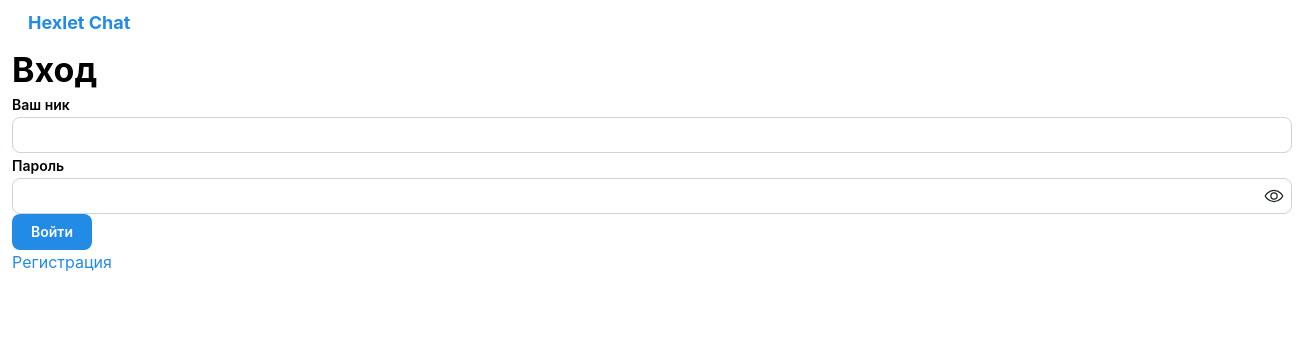
Scenario: the login and signup pages link to each other
Step 1. Click the link to "/signup" → (62, 262), box x1=12 y1=252 x2=112 y2=272
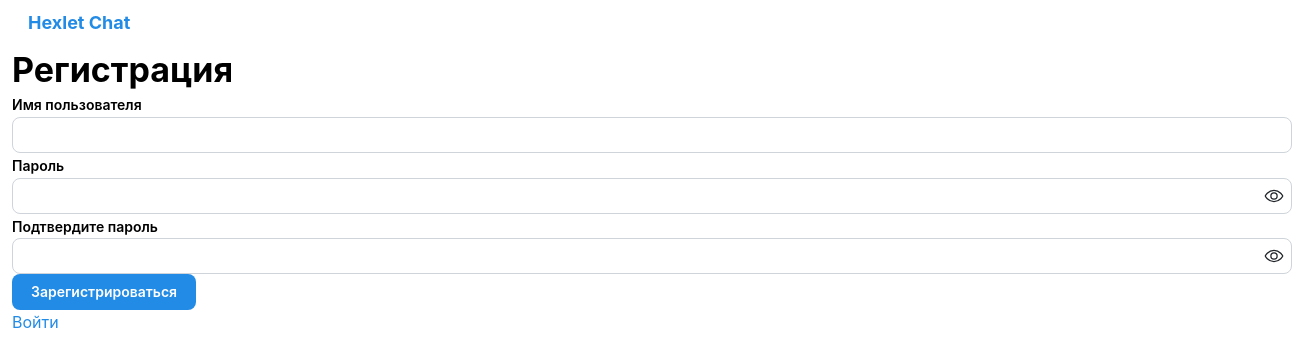
Now the text "Подтвердите пароль" is shown, box x1=12 y1=216 x2=158 y2=237
Now the link to "/login" reads "Войти"
Step 2. Click the link to "/login" → (35, 322), box x1=12 y1=312 x2=59 y2=332
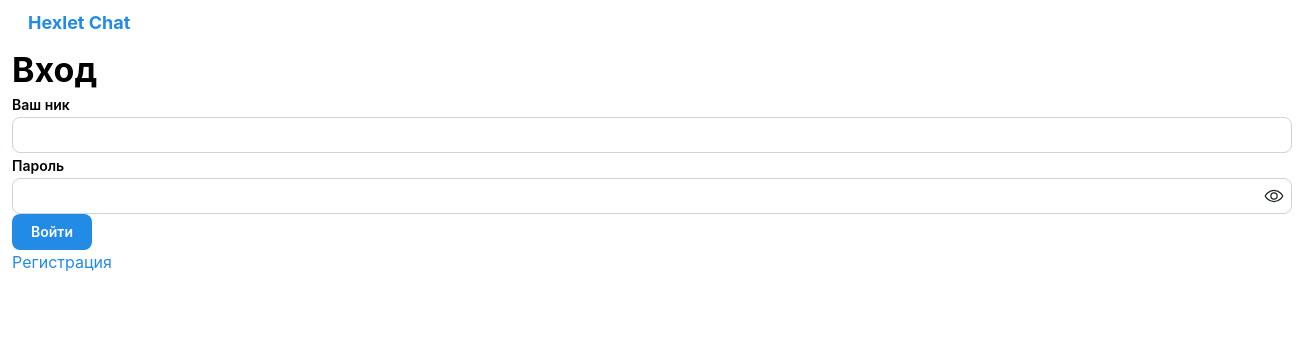
Now the text "Ваш ник" is shown, box x1=12 y1=94 x2=70 y2=116
